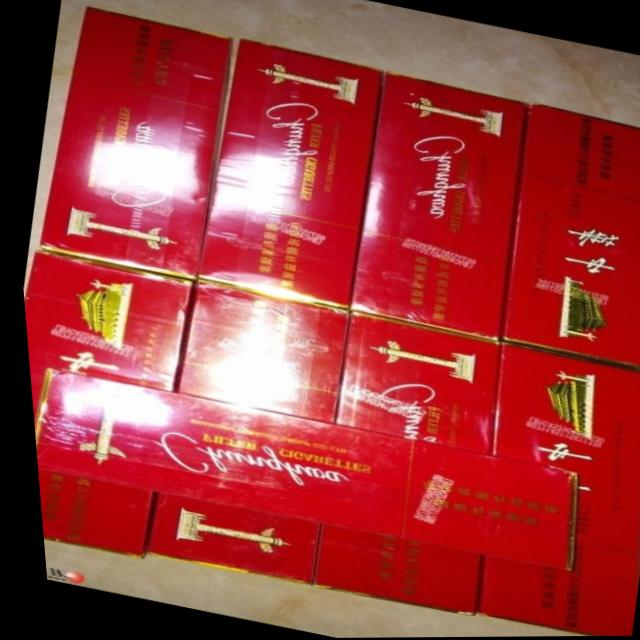box: (27, 367, 569, 572), (136, 279, 343, 587), (302, 310, 498, 618), (36, 6, 233, 280), (191, 38, 384, 310), (465, 342, 640, 637), (343, 71, 524, 342), (495, 101, 640, 371), (19, 249, 190, 420), (30, 468, 147, 559)
